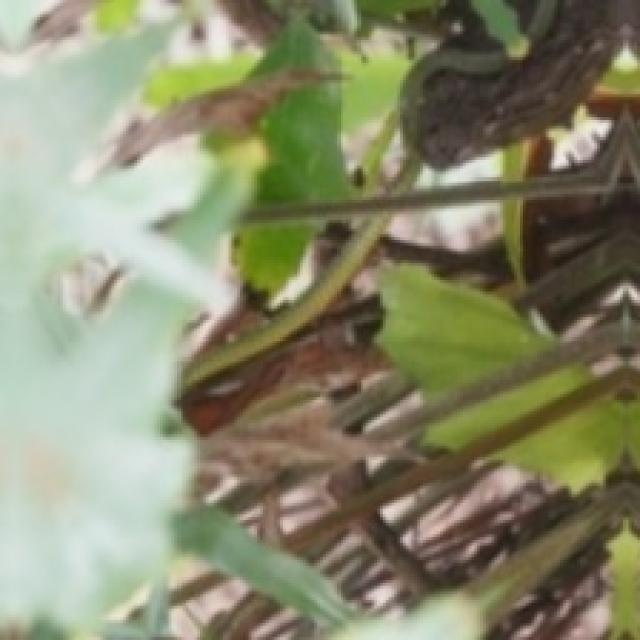paradise tree snake: (400, 0, 637, 166)
